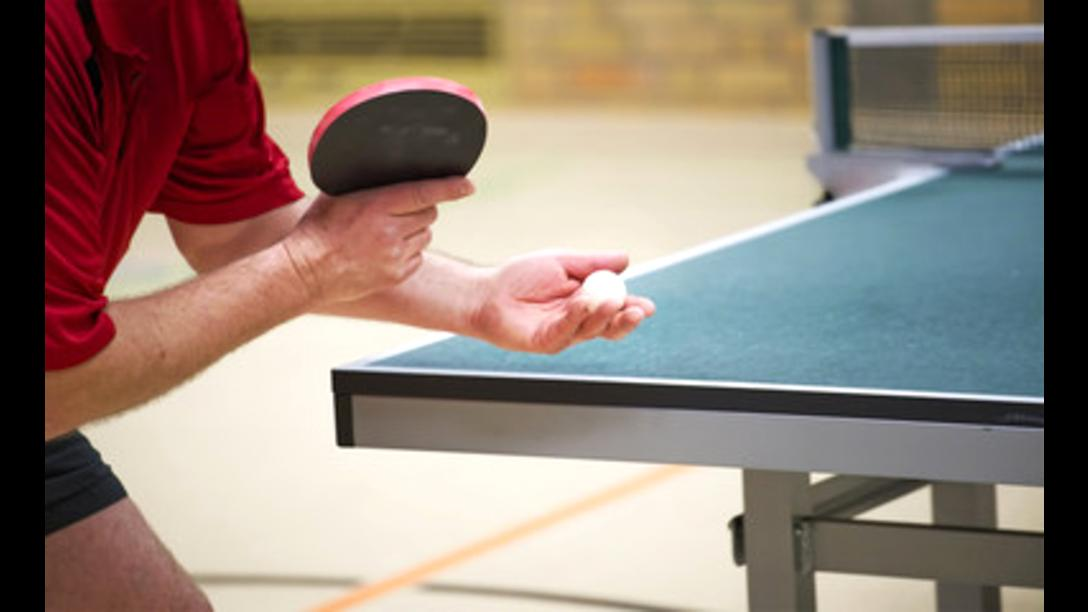Table-Tennis-Ball: (584, 270, 624, 308)
